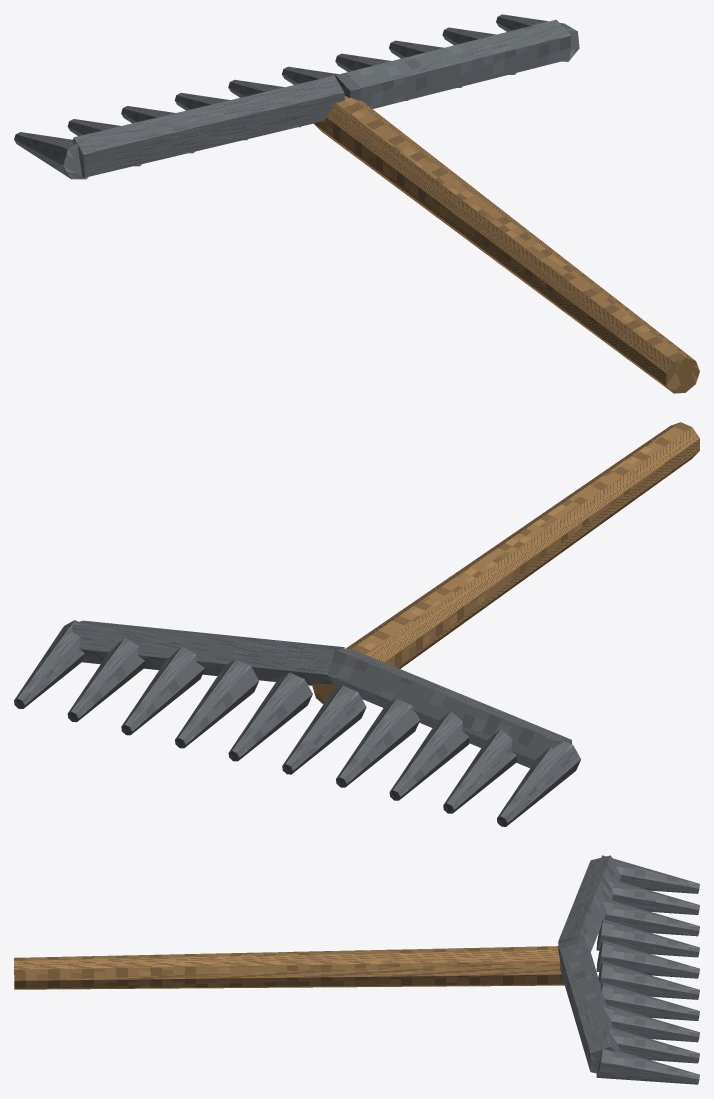
Rendered from rake.glb.
3 renders of one model, top to bottom at view 1: azimuth 30°, elevation 25°; view 2: azimuth 150°, elevation 25°; view 3: azimuth 270°, elevation 25°, orthographic. The views are drawn at different scales.
Visible parts, largest first — view 1: block_handle, block_tooth crossbar 0, block_tooth crossbar 1, block_tine (×5); view 2: block_tine (×10), block_handle, block_tooth crossbar 1, block_tooth crossbar 0; view 3: block_handle, block_tine (×10), block_tooth crossbar 1, block_tooth crossbar 0.
Part boxes in pixels (x1,y1,x2,y2): block_handle: [313, 96, 699, 393]; block_tooth crossbar 0: [72, 75, 344, 177]; block_tooth crossbar 1: [335, 19, 571, 108]; block_tine (×5): [14, 14, 579, 179]; block_tine (×10): [14, 620, 580, 826]; block_handle: [312, 422, 699, 704]; block_tooth crossbar 1: [72, 620, 344, 685]; block_tooth crossbar 0: [327, 648, 571, 768]; block_handle: [14, 946, 564, 989]; block_tine (×10): [596, 855, 699, 1084]; block_tooth crossbar 1: [558, 937, 619, 1073]; block_tooth crossbar 0: [558, 855, 620, 951].
Bounding box in the file's own units: 1.06 × 0.1258 × 1.5.
1 material, 1 textured.
